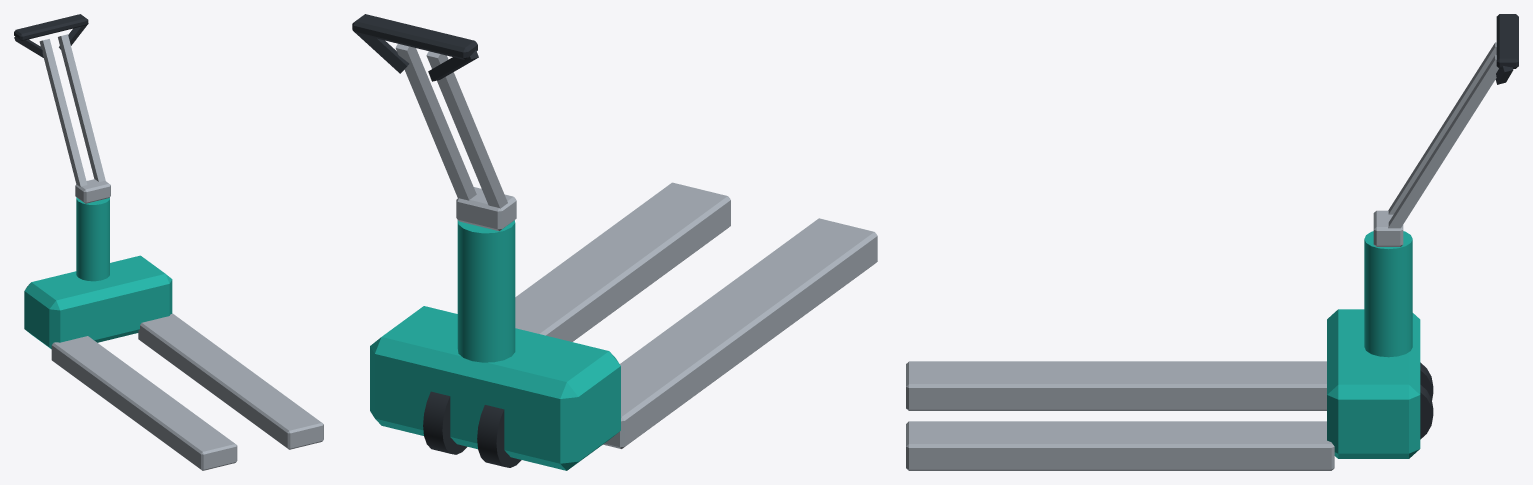
Rendered from pallet-jack.glb.
The picture shows the model from 3 angles, left to right: view 1: azimuth 30°, elevation 25°; view 2: azimuth 150°, elevation 25°; view 3: azimuth 270°, elevation 25°; orthographic projection. The views are drawn at different scales.
Visible parts, largest first — view 1: pallet-jack; view 2: pallet-jack; view 3: pallet-jack.
Boxes of the visible parts, x1,y1,x2,y2 form: pallet-jack: [14, 14, 323, 470]; pallet-jack: [352, 14, 877, 470]; pallet-jack: [906, 14, 1518, 470].
Size of the model in its own units: 0.54 by 1.17 by 1.64.
